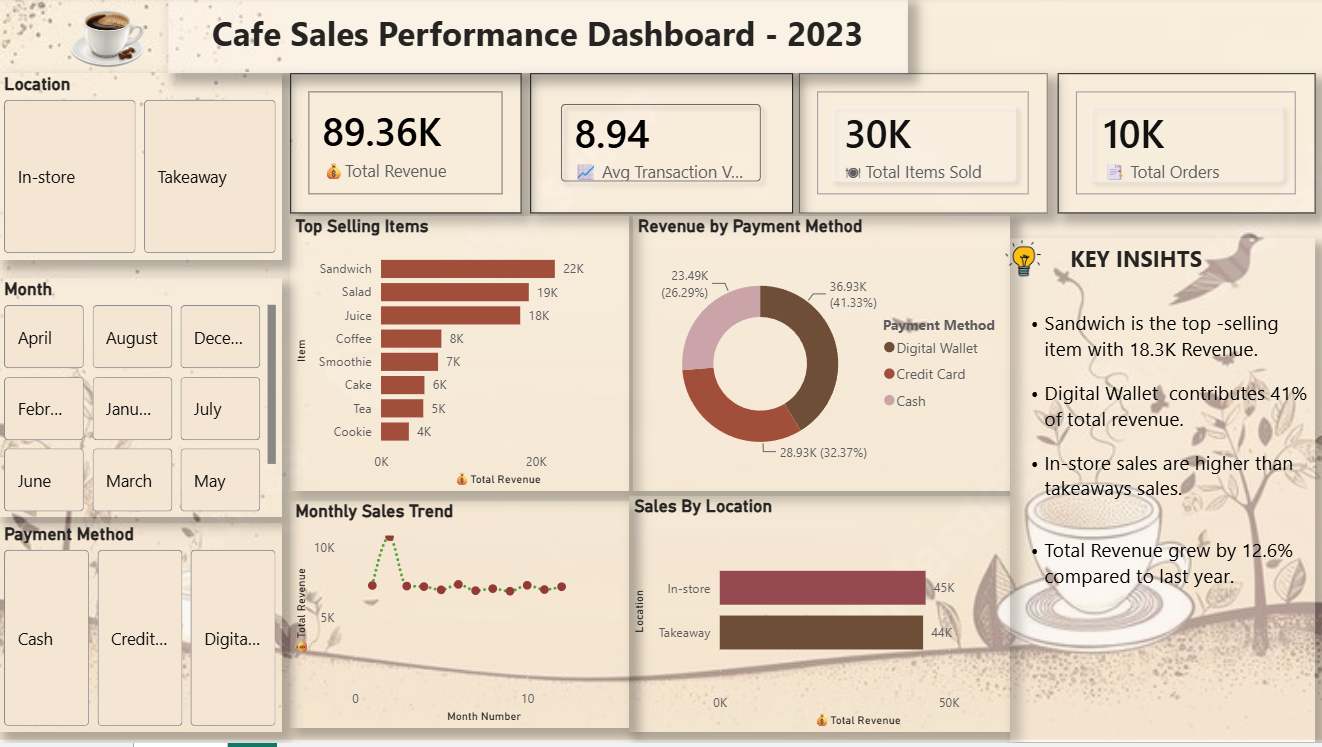

Layout of this report page (visuals, bound fields, positions):
{"tool":"powerbi","page":{"name":"Page 1","canvas":[1279,720],"ordinal":0},"visuals":[{"type":"cardVisual","fields":{"Data":["Cleaned Data - Cafe Sales Data.Total Sales"]},"box":[281.1,73.6,223.2,135.1],"z":0},{"type":"cardVisual","fields":{"Data":["Cleaned Data - Cafe Sales Data.Total Transactions"]},"box":[1021.9,73.6,248.5,135.1],"z":1000},{"type":"cardVisual","fields":{"Data":["Cleaned Data - Cafe Sales Data.Total Quantity Sold"]},"box":[772.1,73.6,240.1,135.1],"z":2000},{"type":"cardVisual","fields":{"Data":["Cleaned Data - Cafe Sales Data.Average Transaction"]},"box":[512.7,73.6,253.4,135.1],"z":3000},{"type":"clusteredBarChart","title":"Top Selling Items","fields":{"Category":["Cleaned Data - Cafe Sales Data.Item"],"Y":["Cleaned Data - Cafe Sales Data.Total Sales"]},"box":[281.1,211.1,326.9,265.4],"z":4000},{"type":"donutChart","title":"Revenue by Payment Method","fields":{"Category":["Cleaned Data - Cafe Sales Data.Payment Method"],"Y":["Cleaned Data - Cafe Sales Data.Total Sales"]},"box":[611.7,211.1,364.3,265.4],"z":5000},{"type":"clusteredBarChart","title":"Sales By Location","fields":{"Category":["Cleaned Data - Cafe Sales Data.Location"],"Y":["Cleaned Data - Cafe Sales Data.💰Total Revenue"]},"box":[608,481.4,368,228],"z":6000},{"type":"lineChart","title":"Monthly Sales Trend","fields":{"Y":["Cleaned Data - Cafe Sales Data.💰Total Revenue"],"Category":["Cleaned Data - Cafe Sales Data.Month Number"]},"box":[281.1,486.2,326.9,219.6],"z":7000},{"type":"advancedSlicerVisual","fields":{"Values":["Cleaned Data - Cafe Sales Data.Location"]},"box":[0,73.6,272.7,179.8],"z":8000},{"type":"advancedSlicerVisual","fields":{"Values":["Cleaned Data - Cafe Sales Data.Month"]},"box":[0,271.4,272.7,230.4],"z":9000},{"type":"textbox","box":[162.9,0,714.2,73.6],"z":10000},{"type":"image","box":[0,0,208.7,82],"z":11000},{"type":"textbox","box":[976,232.8,294.4,486.2],"z":12000},{"type":"image","box":[965.2,232.8,47.1,38.6],"z":13000},{"type":"advancedSlicerVisual","fields":{"Values":["Cleaned Data - Cafe Sales Data.Payment Method"]},"box":[0,507.9,272.7,201.5],"z":14000}]}

Visuals, with their boxes in screenshot pixels (x1, y1, x2, y2), scaled from the page's 1279x720 canvas onto the 1322x747 screenshot:
cardVisual - Cleaned Data - Cafe Sales Data.Total Sales: box(291, 76, 521, 217)
cardVisual - Cleaned Data - Cafe Sales Data.Total Transactions: box(1056, 76, 1313, 217)
cardVisual - Cleaned Data - Cafe Sales Data.Total Quantity Sold: box(798, 76, 1046, 217)
cardVisual - Cleaned Data - Cafe Sales Data.Average Transaction: box(530, 76, 792, 217)
"Top Selling Items" clusteredBarChart: box(291, 219, 628, 494)
"Revenue by Payment Method" donutChart: box(632, 219, 1009, 494)
"Sales By Location" clusteredBarChart: box(628, 499, 1009, 736)
"Monthly Sales Trend" lineChart: box(291, 504, 628, 732)
advancedSlicerVisual - Cleaned Data - Cafe Sales Data.Location: box(0, 76, 282, 263)
advancedSlicerVisual - Cleaned Data - Cafe Sales Data.Month: box(0, 282, 282, 521)
textbox: box(168, 0, 907, 76)
image: box(0, 0, 216, 85)
textbox: box(1009, 242, 1313, 746)
image: box(998, 242, 1046, 282)
advancedSlicerVisual - Cleaned Data - Cafe Sales Data.Payment Method: box(0, 527, 282, 736)
